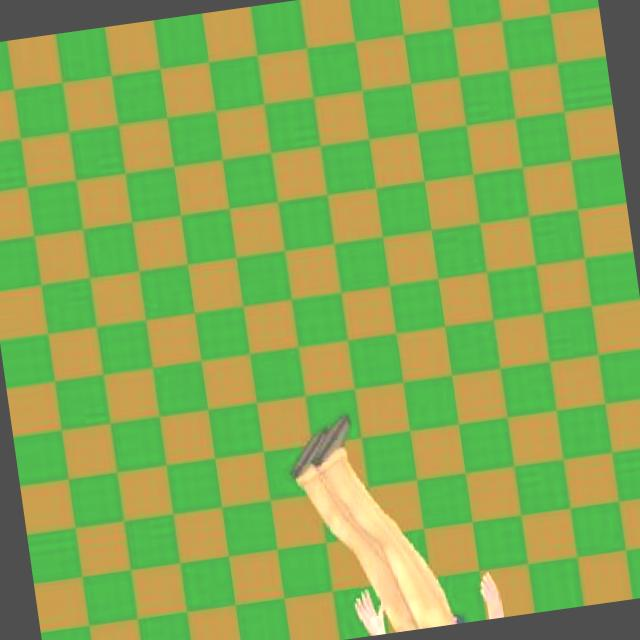Person: (282, 393, 511, 640)
